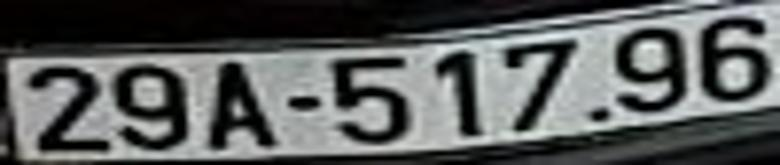-: (289, 94, 317, 110)
.: (592, 110, 607, 121)
1: (436, 52, 479, 137)
2: (29, 64, 108, 152)
5: (334, 59, 409, 142)
6: (699, 16, 769, 99)
7: (506, 41, 574, 129)
9: (114, 63, 187, 149), (616, 27, 684, 110)
A: (211, 63, 275, 148)
